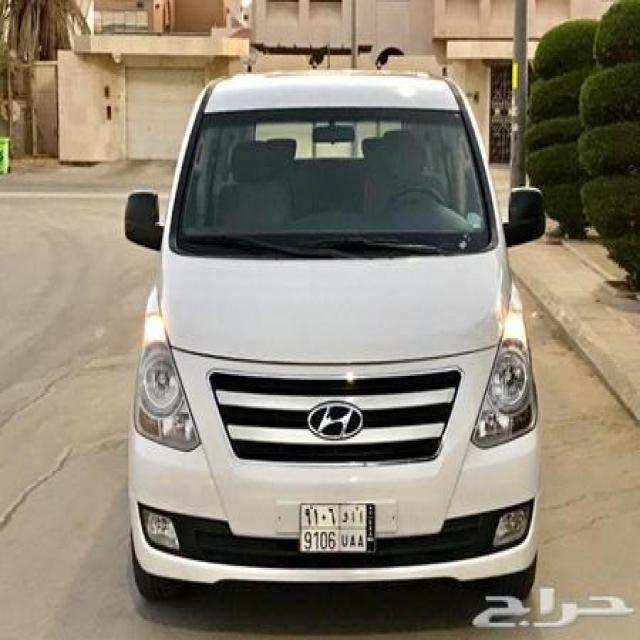license_plate: (297, 500, 377, 554)
